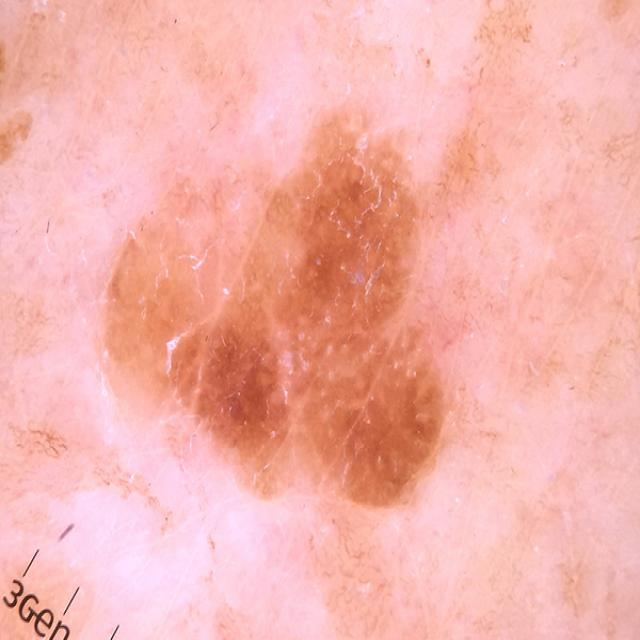Skin-Cancer Pigmented benign keratosis: (11, 22, 612, 640)
